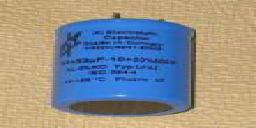Electrolytic Capacitor: (44, 10, 223, 122)
